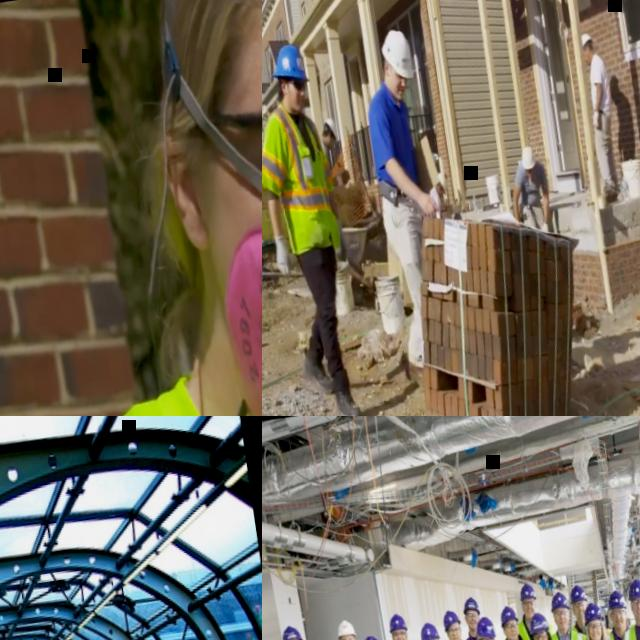Hardhat: (381, 28, 416, 82), (270, 42, 310, 84), (580, 597, 610, 640), (528, 610, 552, 635), (474, 614, 496, 640), (335, 617, 358, 640), (499, 604, 521, 628), (549, 590, 572, 612), (604, 589, 627, 611), (581, 600, 604, 622), (443, 607, 463, 631), (520, 142, 538, 168), (388, 611, 409, 633), (419, 619, 441, 640), (518, 580, 539, 602), (462, 595, 482, 617), (280, 623, 305, 640), (568, 584, 588, 604), (324, 114, 338, 138), (626, 576, 640, 600), (438, 171, 451, 192), (581, 30, 593, 46), (360, 634, 384, 640)
Mask: (201, 137, 262, 416)
NO-Hardhat: (152, 0, 262, 103)
NO-Mask: (285, 92, 308, 117), (390, 80, 406, 99), (557, 619, 572, 632), (524, 605, 538, 618), (507, 627, 520, 640), (467, 619, 480, 631), (615, 618, 628, 630), (590, 631, 604, 640), (448, 632, 463, 640), (576, 611, 587, 621), (633, 608, 640, 622), (584, 52, 592, 63), (528, 172, 536, 182)
NO-Safety Vest: (366, 89, 423, 200), (588, 54, 615, 112), (519, 163, 549, 212), (431, 185, 446, 217), (322, 146, 334, 171)
Person: (0, 0, 262, 416), (262, 37, 373, 416), (351, 26, 467, 388), (577, 30, 628, 200), (505, 140, 559, 238), (541, 586, 617, 640), (564, 580, 631, 640), (509, 578, 556, 640), (318, 114, 345, 185), (456, 593, 488, 640), (428, 170, 455, 215)
Safety Vest: (262, 97, 340, 258), (517, 616, 557, 640), (605, 620, 640, 640), (570, 621, 589, 640), (463, 636, 480, 640)
